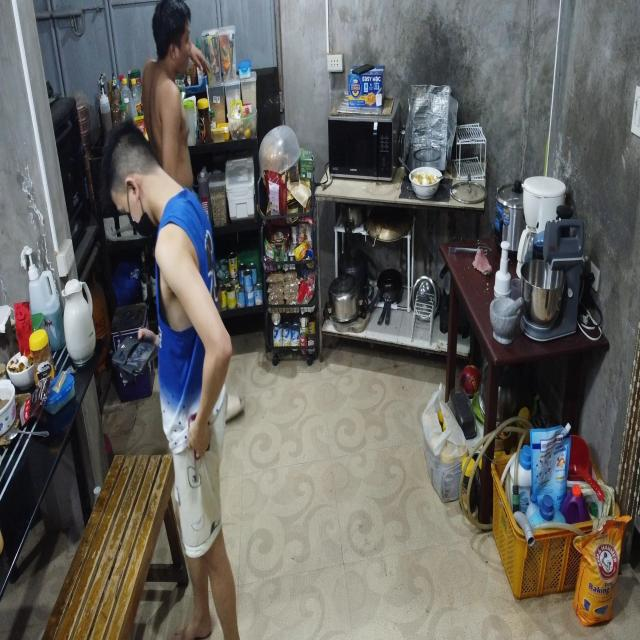scissor: (187, 412, 213, 484)
